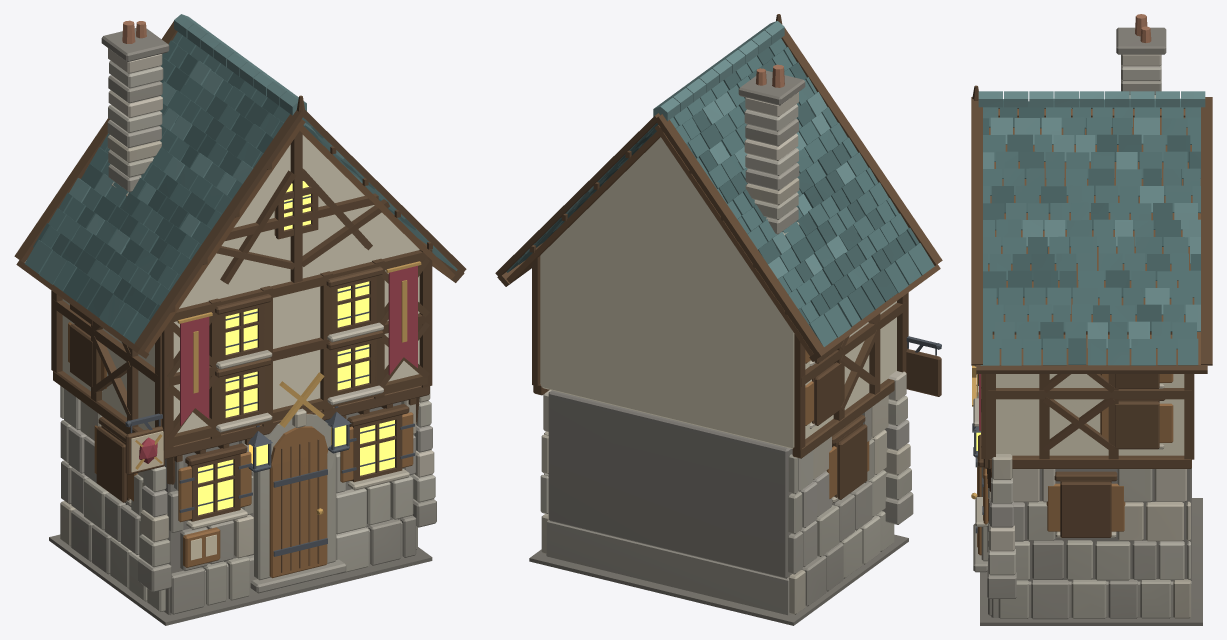
Rendered from adventurers-guild.glb.
The picture shows the model from 3 angles, left to right: view 1: azimuth 30°, elevation 25°; view 2: azimuth 150°, elevation 25°; view 3: azimuth 270°, elevation 25°; orthographic projection. The views are drawn at different scales.
Parts seen in each view (by area): view 1: Structure_HV_timber, Roof_HV_adventurers-guild_slate, Structure_HV_adventurers-guild_plaster, Facade_HV_timber, Structure_HV_stone0, Roof_HV_adventurers-guild_slate_dark, Structure_HV_stone1, Facade_HV_door, Roof_HV_timber, Facade_HV_amber_glass, Roof_HV_adventurers-guild_slate_light, Facade_HV_guild_banner (+14 smaller); view 2: Structure_HV_adventurers-guild_plaster, Structure_HV_stone_dark, Roof_HV_adventurers-guild_slate, Structure_HV_stone0, Roof_HV_adventurers-guild_slate_dark, Roof_HV_timber, Structure_HV_timber, Structure_HV_stone1, Roof_HV_adventurers-guild_slate_light, Facade_HV_timber, Structure_HV_stone2, Roof_HV_oak (+5 smaller); view 3: Roof_HV_adventurers-guild_slate, Roof_HV_adventurers-guild_slate_dark, Roof_HV_adventurers-guild_slate_light, Structure_HV_stone1, Structure_HV_timber, Roof_HV_timber, Structure_HV_stone0, Structure_HV_adventurers-guild_plaster, Structure_HV_stone2, Facade_HV_timber, Structure_HV_stone_dark, Facade_HV_door (+8 smaller).
Boxes of the visible parts, bbox=[...] form: Structure_HV_timber: bbox=[51, 131, 432, 484]; Roof_HV_adventurers-guild_slate: bbox=[24, 32, 457, 343]; Structure_HV_adventurers-guild_plaster: bbox=[62, 135, 419, 432]; Facade_HV_timber: bbox=[70, 178, 409, 521]; Structure_HV_stone0: bbox=[61, 425, 436, 615]; Roof_HV_adventurers-guild_slate_dark: bbox=[33, 53, 415, 320]; Structure_HV_stone1: bbox=[60, 386, 435, 612]; Facade_HV_door: bbox=[68, 322, 413, 578]; Roof_HV_timber: bbox=[14, 21, 466, 358]; Facade_HV_amber_glass: bbox=[198, 181, 394, 515]; Roof_HV_adventurers-guild_slate_light: bbox=[69, 14, 362, 254]; Facade_HV_guild_banner: bbox=[139, 265, 417, 463]; Structure_HV_adventurers-guild_plaster: bbox=[540, 137, 896, 448]; Structure_HV_stone_dark: bbox=[529, 390, 908, 625]; Roof_HV_adventurers-guild_slate: bbox=[506, 38, 934, 346]; Structure_HV_stone0: bbox=[546, 407, 913, 615]; Roof_HV_adventurers-guild_slate_dark: bbox=[547, 47, 919, 330]; Roof_HV_timber: bbox=[495, 14, 942, 361]; Structure_HV_timber: bbox=[532, 243, 908, 458]; Structure_HV_stone1: bbox=[540, 395, 911, 578]; Roof_HV_adventurers-guild_slate_light: bbox=[525, 21, 855, 278]; Facade_HV_timber: bbox=[812, 342, 941, 499]; Structure_HV_stone2: bbox=[541, 371, 910, 614]; Roof_HV_oak: bbox=[506, 125, 813, 356]; Roof_HV_adventurers-guild_slate: bbox=[980, 98, 1200, 365]; Roof_HV_adventurers-guild_slate_dark: bbox=[983, 98, 1200, 364]; Roof_HV_adventurers-guild_slate_light: bbox=[978, 91, 1205, 349]; Structure_HV_stone1: bbox=[987, 469, 1190, 618]; Structure_HV_timber: bbox=[981, 331, 1194, 491]; Roof_HV_timber: bbox=[971, 85, 1212, 373]; Structure_HV_stone0: bbox=[987, 499, 1191, 619]; Structure_HV_adventurers-guild_plaster: bbox=[996, 374, 1184, 455]; Structure_HV_stone2: bbox=[988, 454, 1190, 618]; Facade_HV_timber: bbox=[978, 374, 1164, 537]; Structure_HV_stone_dark: bbox=[980, 468, 1202, 625]; Facade_HV_door: bbox=[978, 374, 1173, 555].
Bounding box in the file's own units: 4 × 6.07 × 2.62.
